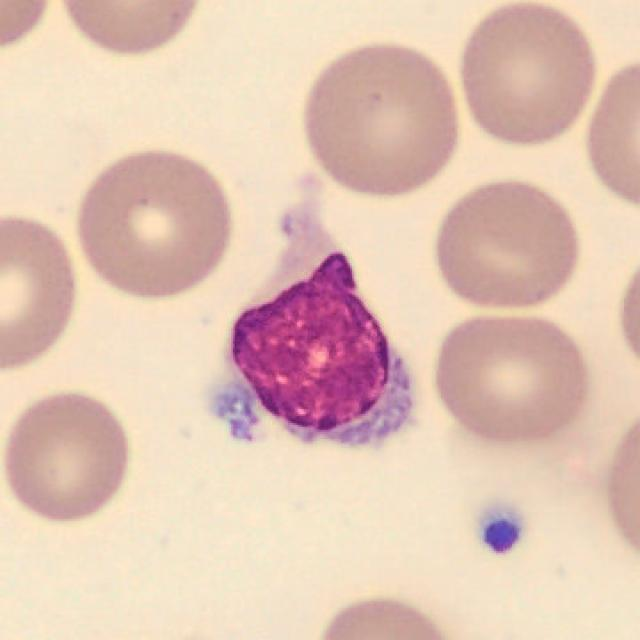Linfocito: (215, 176, 411, 443)
